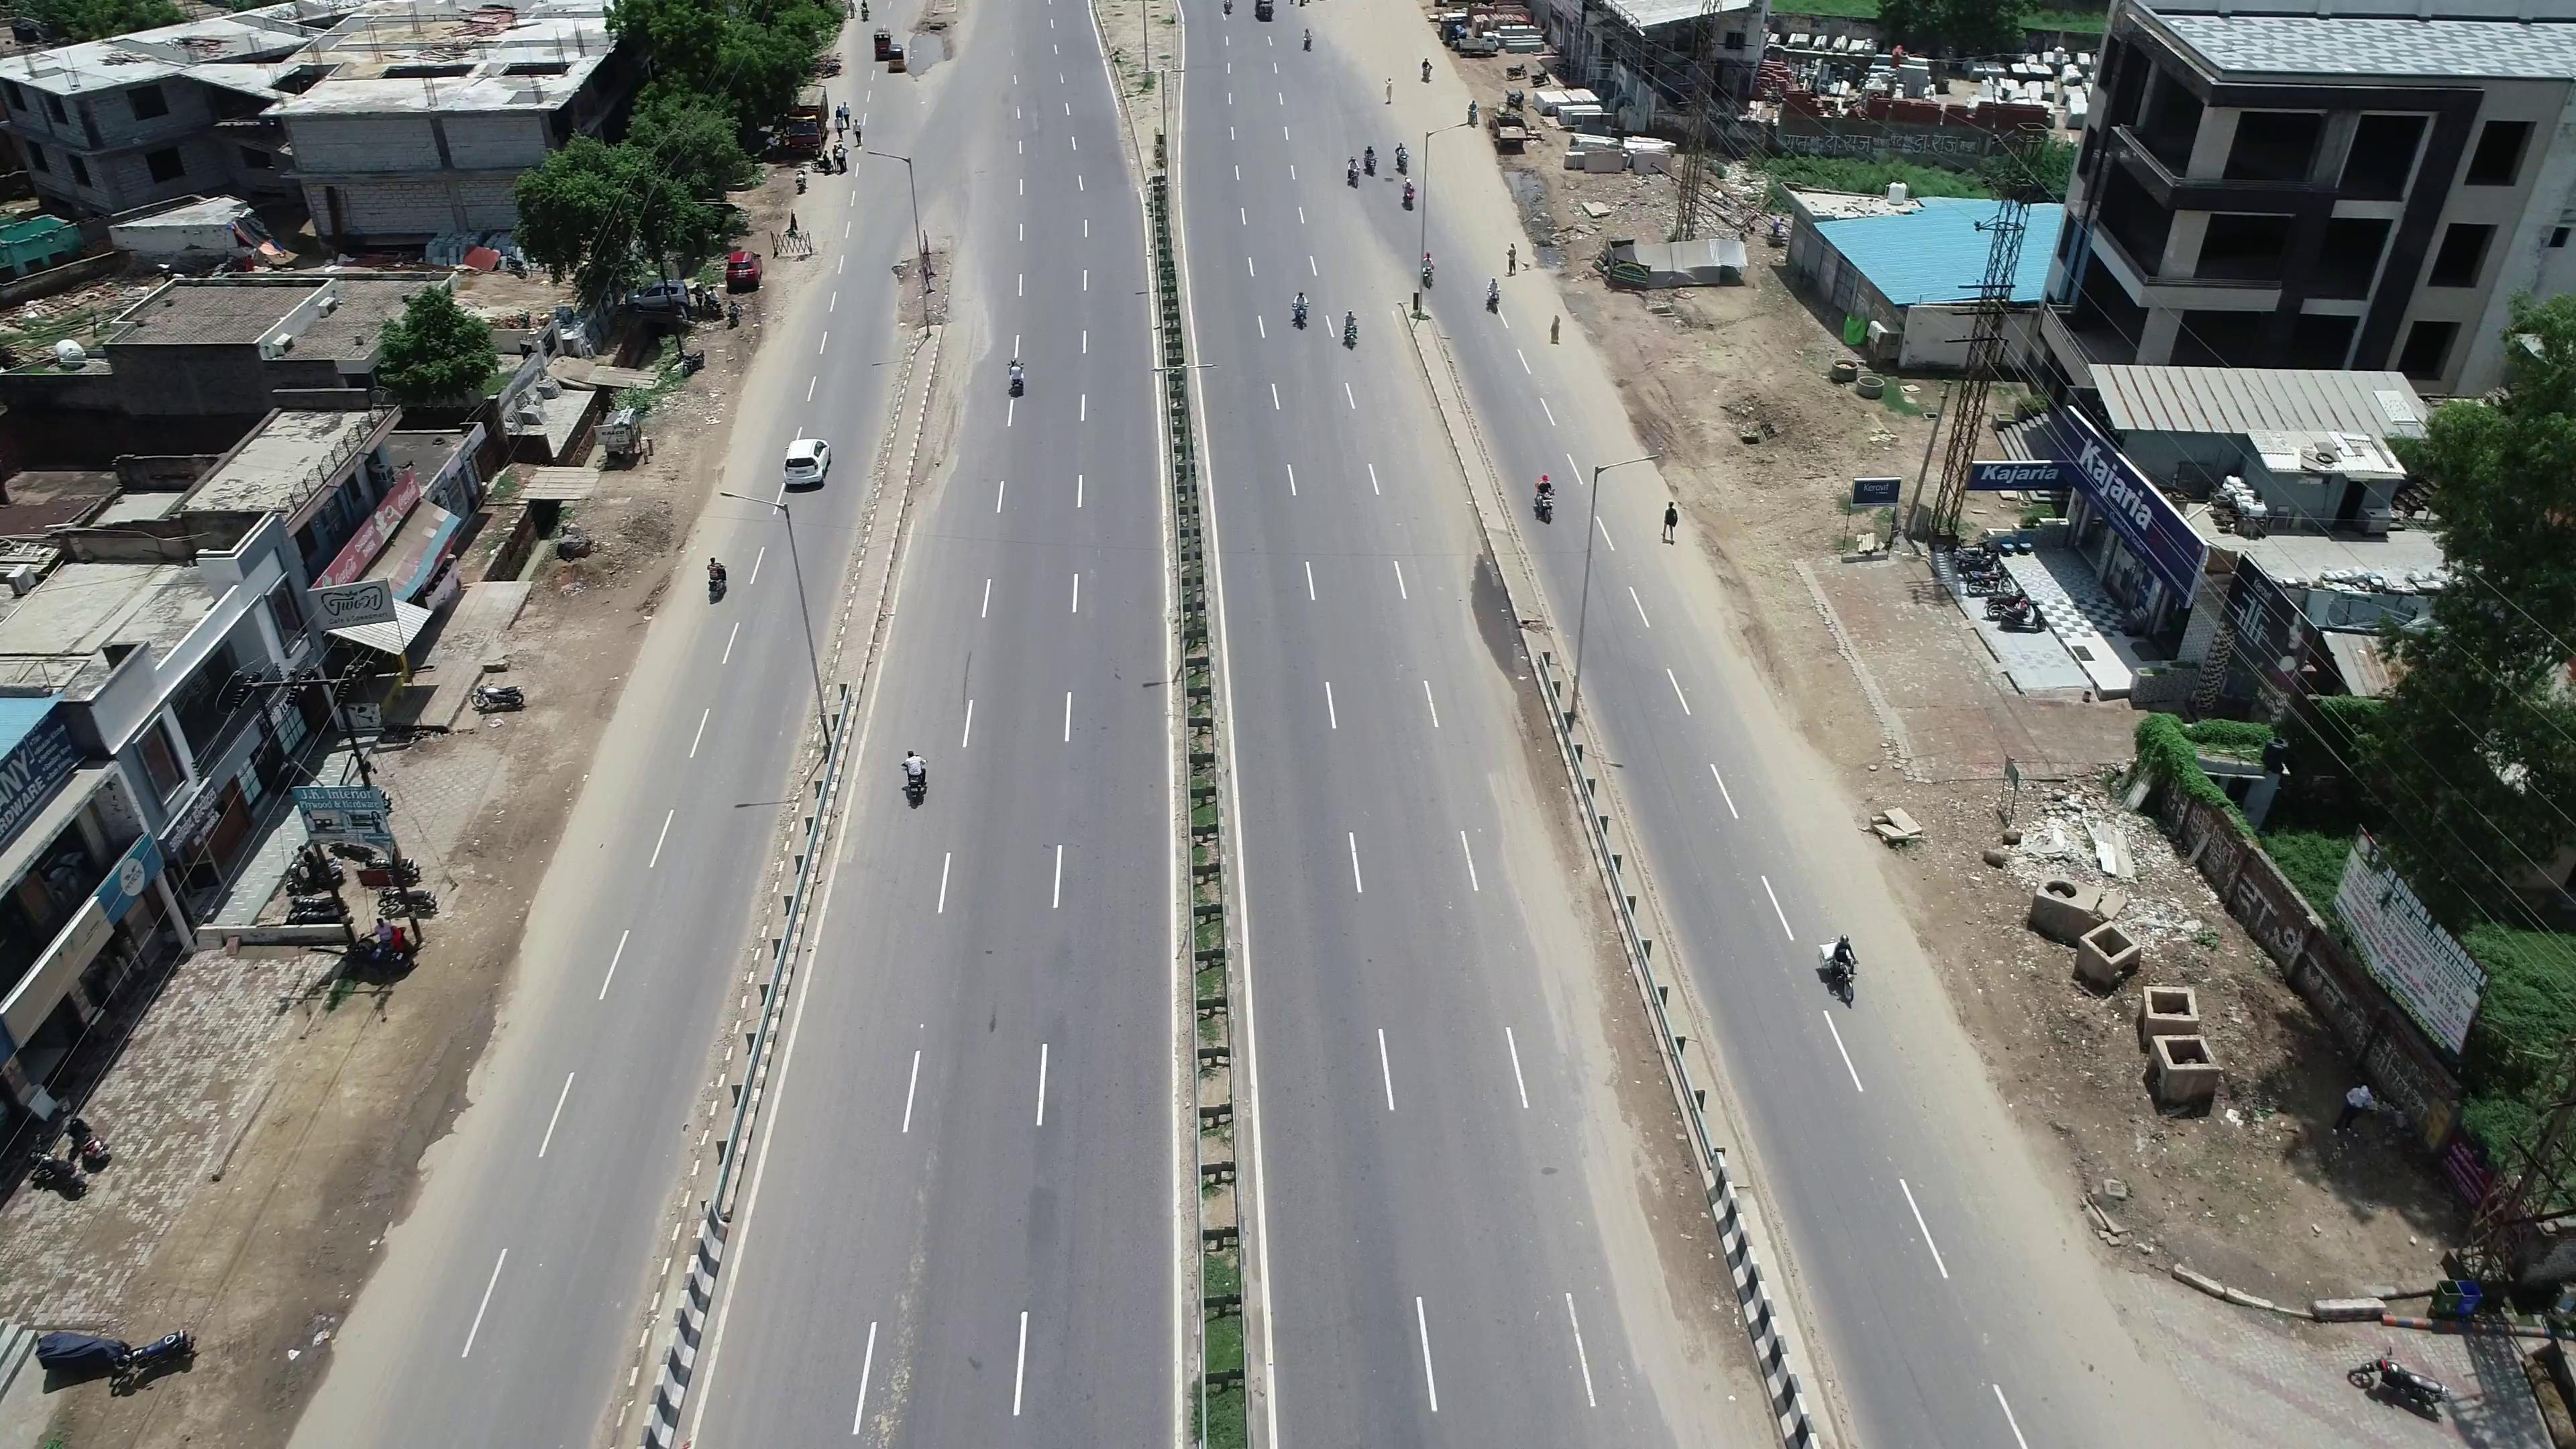Muddy_road: (1575, 1012, 1704, 1293)
Waterlogging: (1453, 552, 1516, 676)
